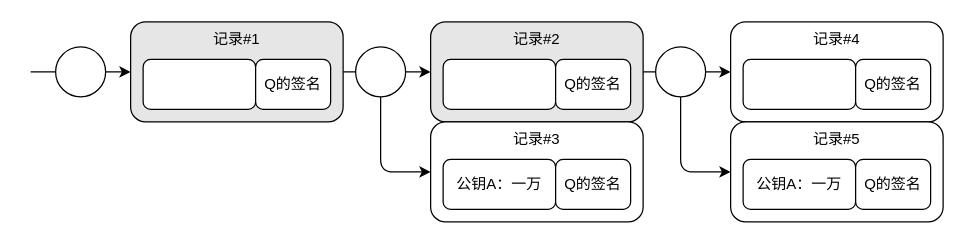
This 965x244 diagram has some shape labels left out. Here are the shapes that lost their labels. From the top down, the centre of each, then its label:
[80,71]: 交易1
[199,83]: 公钥Q：十亿
[380,71]: 交易2
[499,83]: 公钥Q： 9.9999亿
[680,71]: 交易3
[799,83]: 公钥Q： 9.9998亿
